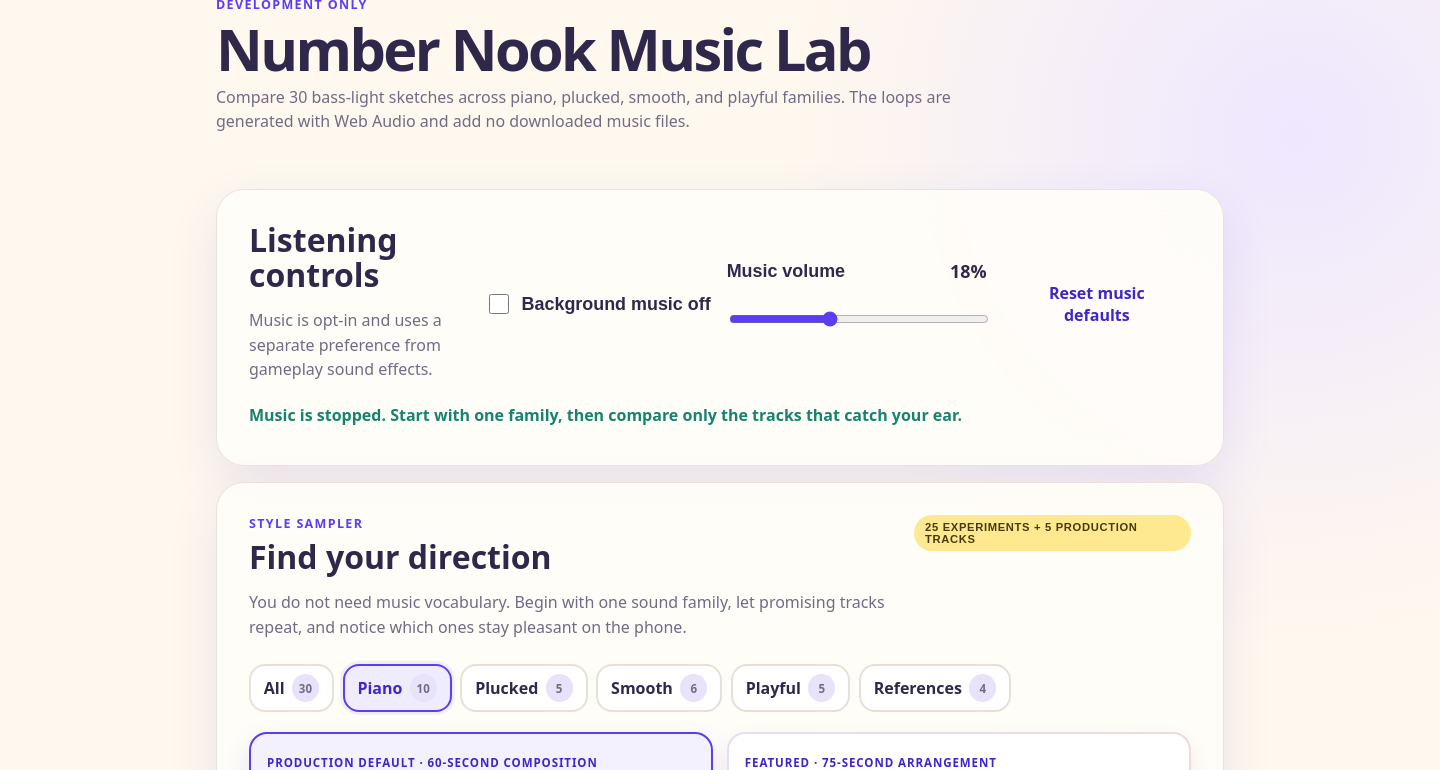
MusicLab in a real browser › keeps music opt-in and exposes independent listening controls
The image size is (1440, 770).
Expected: the heading "Number Nook Music Lab" is shown, [216, 20, 976, 79]
Click the checkbox labelled "Background music off" at coordinates (499, 304), box [489, 276, 509, 332]
(page scrolled)
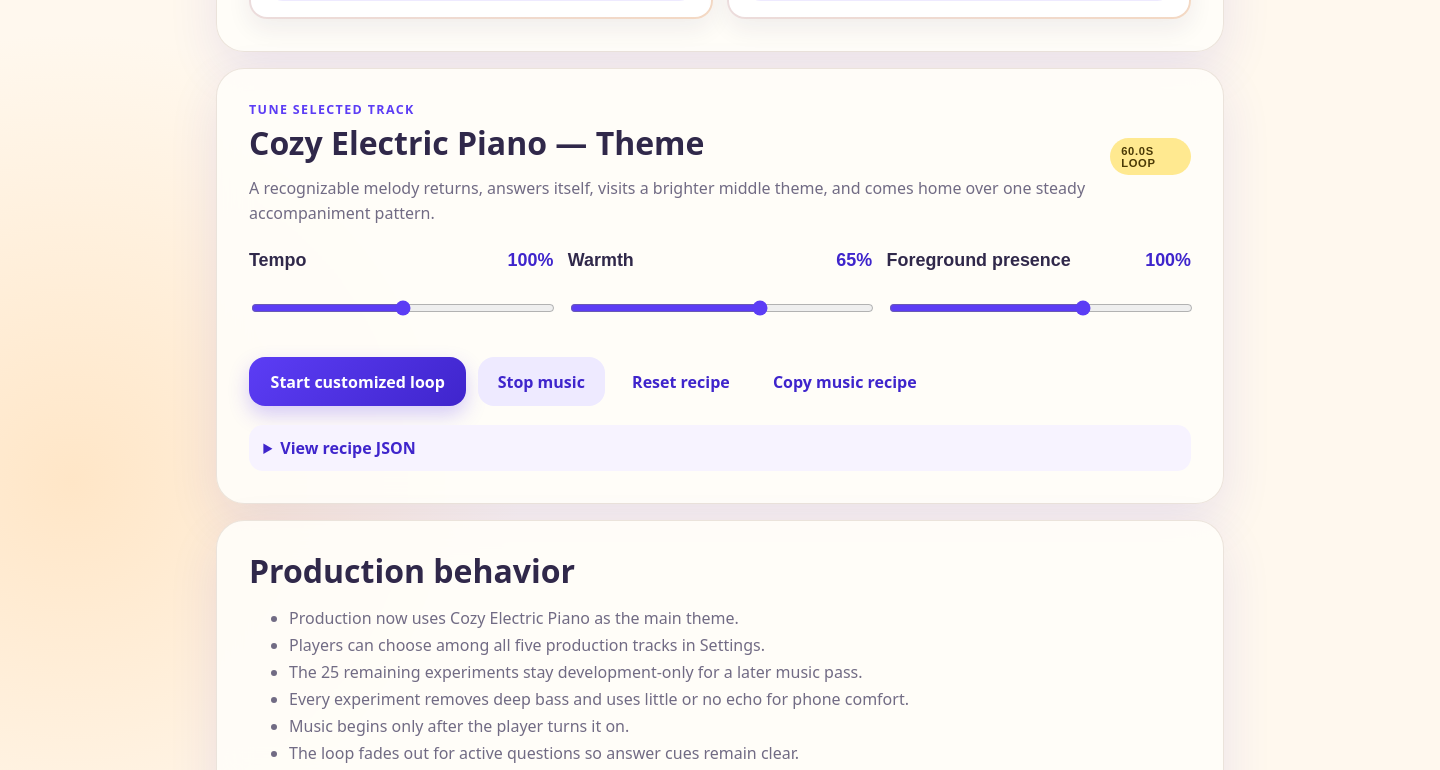
Result: the button "Start customized loop" is enabled at [249, 357, 466, 406]
